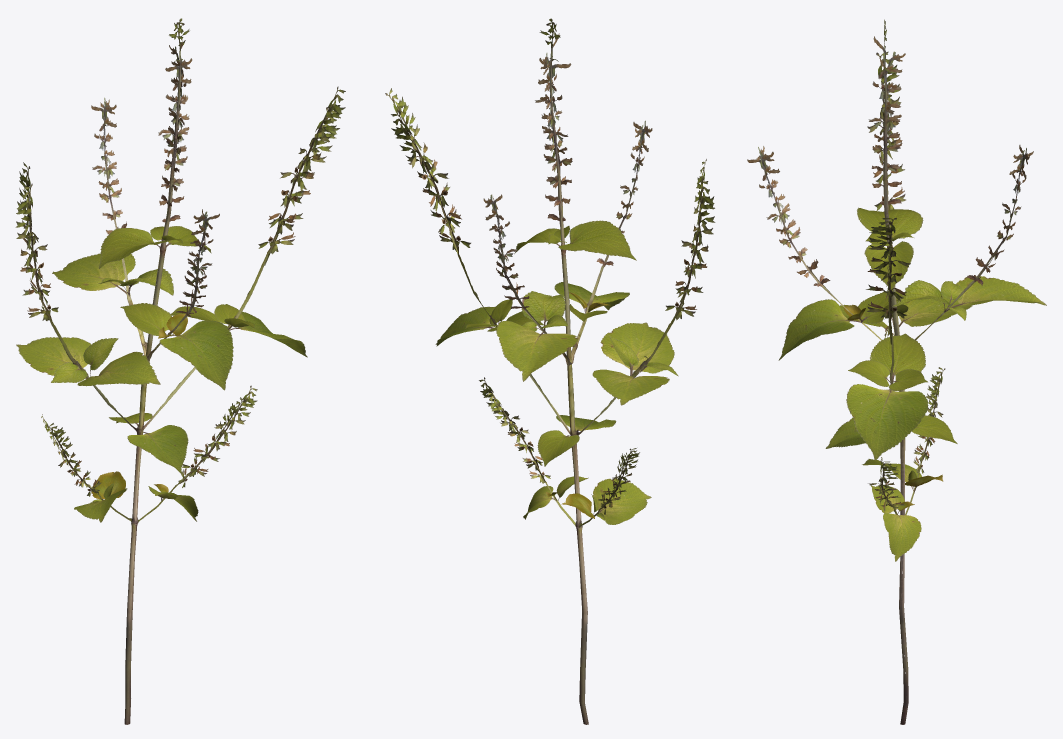
The model's file is shrub_03_01.glb.
3 renders of one model, left to right at view 1: azimuth 30°, elevation 25°; view 2: azimuth 150°, elevation 25°; view 3: azimuth 270°, elevation 25°, orthographic. The views are drawn at different scales.
Visible parts, largest first — view 1: shrub_03; view 2: shrub_03; view 3: shrub_03.
Boxes of the visible parts, left/top/right/bottom form: shrub_03: left=15, top=18, right=345, bottom=724; shrub_03: left=385, top=18, right=715, bottom=724; shrub_03: left=747, top=19, right=1046, bottom=724.
Size of the model in its own units: 0.2006 by 0.4028 by 0.1512.
Materials: 1 (1 with a texture image).
